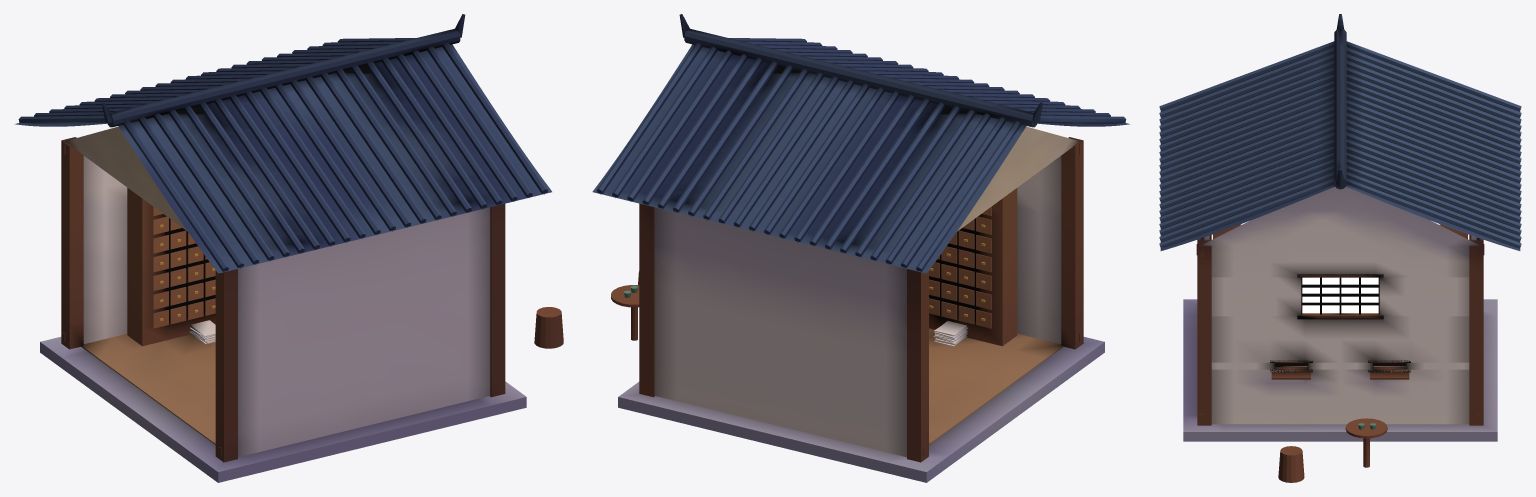
Rendered from chinese_room.glb.
3 renders of one model, left to right at view 1: azimuth 30°, elevation 25°; view 2: azimuth 150°, elevation 25°; view 3: azimuth 270°, elevation 25°, orthographic. The views are drawn at different scales.
Visible parts, largest first — view 1: cr_roof, cr_walls, cr_floor, cr_timber, cr_cabinets, cr_outside; view 2: cr_roof, cr_walls, cr_floor, cr_timber, cr_cabinets, cr_outside, cr_paper; view 3: cr_roof, cr_walls, cr_timber, cr_floor, cr_window, cr_outside.
Boxes of the visible parts, box(x1,y1,x2,y2) form: cr_roof: box(14, 14, 551, 273); cr_walls: box(83, 156, 490, 457); cr_floor: box(40, 334, 526, 482); cr_timber: box(61, 137, 505, 462); cr_cabinets: box(127, 188, 215, 346); cr_outside: box(534, 307, 563, 348); cr_roof: box(592, 14, 1129, 273); cr_walls: box(654, 156, 1061, 457); cr_floor: box(618, 328, 1104, 482); cr_timber: box(639, 137, 1083, 462); cr_cabinets: box(929, 188, 1017, 346); cr_outside: box(611, 271, 639, 340); cr_paper: box(933, 321, 968, 346); cr_roof: box(1159, 14, 1521, 250); cr_walls: box(1199, 235, 1481, 424); cr_timber: box(1196, 235, 1484, 425); cr_floor: box(1183, 299, 1497, 441); cr_window: box(1302, 277, 1378, 313); cr_outside: box(1278, 418, 1387, 482).
Size of the model in its own units: 6.73 by 4.79 by 5.54.
